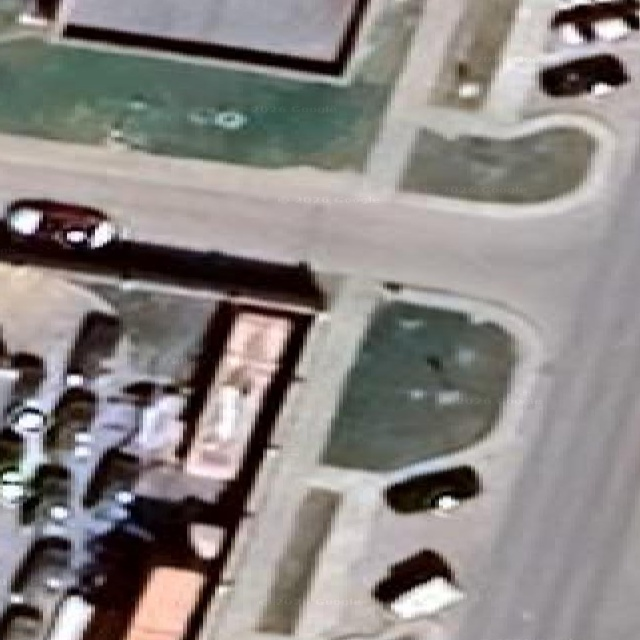car: (184, 311, 292, 480), (184, 355, 270, 480), (372, 548, 463, 619), (77, 522, 148, 607), (124, 567, 203, 639), (4, 199, 116, 248), (384, 466, 480, 512), (64, 312, 120, 388), (551, 0, 639, 43), (20, 462, 71, 535), (540, 54, 627, 96), (227, 311, 292, 364), (135, 387, 186, 453), (8, 404, 45, 473), (4, 352, 44, 412), (48, 592, 92, 639), (0, 428, 24, 506), (216, 383, 248, 440), (0, 599, 43, 637), (188, 520, 226, 560), (8, 404, 45, 435), (0, 464, 24, 504), (28, 0, 59, 23)
